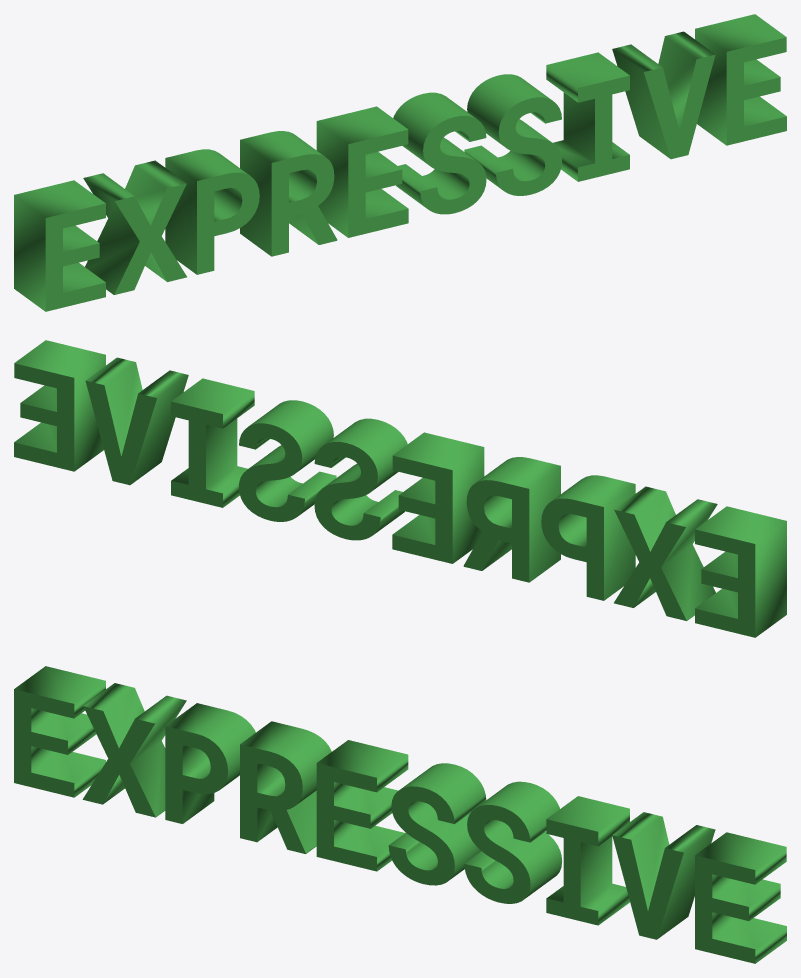
File: Expressive.fbx
3 views of the same model, one above another, from view 1: azimuth 30°, elevation 25°; view 2: azimuth 150°, elevation 25°; view 3: azimuth 330°, elevation 25° (orthographic).
Visible parts, largest first — view 1: $ColladaAutoName$_1; view 2: $ColladaAutoName$_1; view 3: $ColladaAutoName$_1.
Part boxes in pixels (x1,y1,x2,y2): $ColladaAutoName$_1: (14, 14, 786, 311); $ColladaAutoName$_1: (14, 340, 786, 637); $ColladaAutoName$_1: (14, 666, 786, 963).
Bounding box in the file's own units: 816 × 101 × 60.3.
